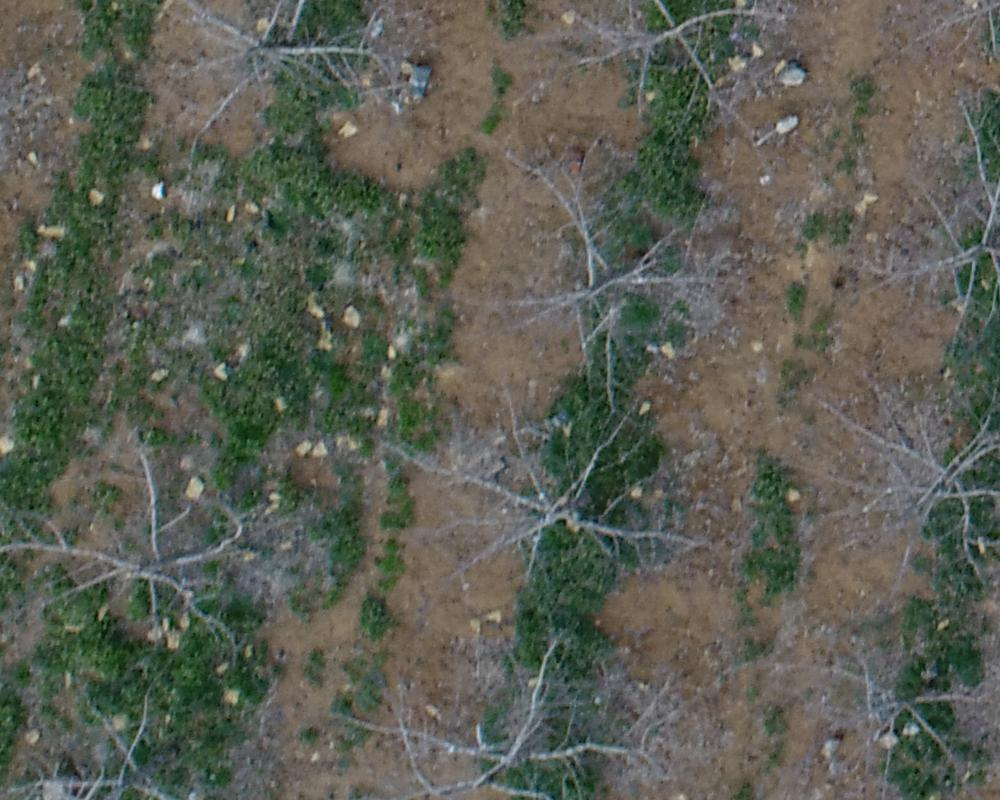apple: (367, 362, 733, 610), (457, 147, 761, 386), (324, 610, 680, 790), (10, 423, 265, 656), (778, 356, 990, 593), (843, 93, 990, 367), (552, 10, 796, 156), (778, 623, 990, 790), (143, 10, 415, 123)
